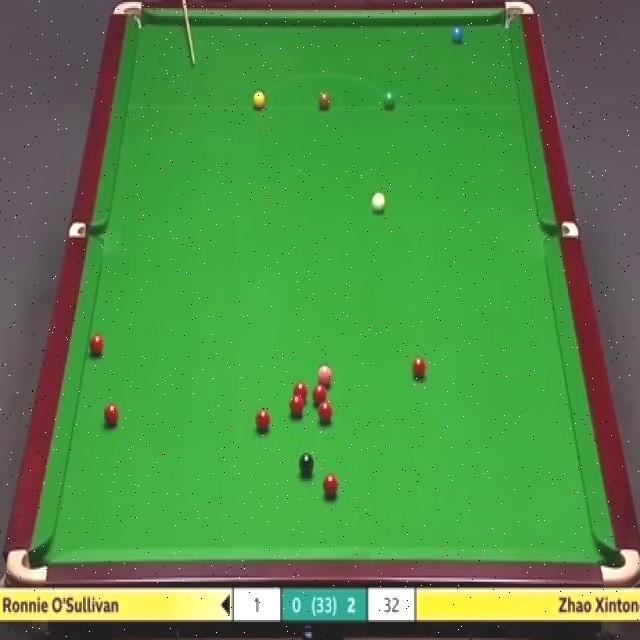black-ball: (300, 454, 316, 476)
blue-ball: (452, 25, 465, 44)
brown-ball: (318, 91, 332, 110)
green-ball: (382, 91, 397, 112)
pink-ball: (317, 362, 332, 386)
red-ball: (89, 333, 106, 358), (323, 472, 339, 498), (255, 408, 271, 434), (317, 399, 333, 423), (104, 403, 120, 427), (311, 383, 326, 405), (294, 381, 308, 404), (412, 357, 427, 378), (290, 395, 304, 417)
white-ball: (372, 191, 386, 215)
yellow-ball: (252, 90, 266, 110)
